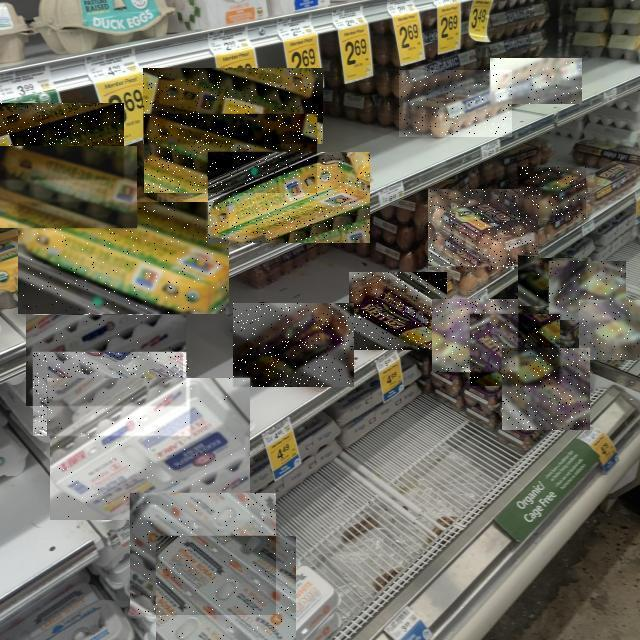Cucumber: (50, 378, 250, 520), (18, 202, 229, 314), (131, 493, 277, 615), (208, 152, 370, 243), (26, 315, 186, 406), (156, 536, 296, 640), (143, 68, 323, 144), (144, 114, 317, 193), (34, 353, 190, 437), (0, 146, 137, 228), (233, 303, 354, 387), (0, 103, 124, 180), (428, 190, 538, 270), (349, 272, 447, 350), (399, 70, 512, 137), (502, 349, 590, 431), (470, 314, 560, 386), (432, 299, 518, 372), (549, 261, 626, 320), (490, 58, 582, 104), (579, 301, 640, 361), (518, 168, 586, 220), (518, 258, 588, 306)
